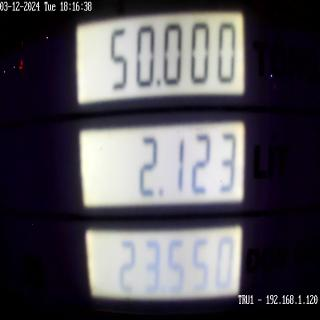screen: (66, 0, 257, 320)
